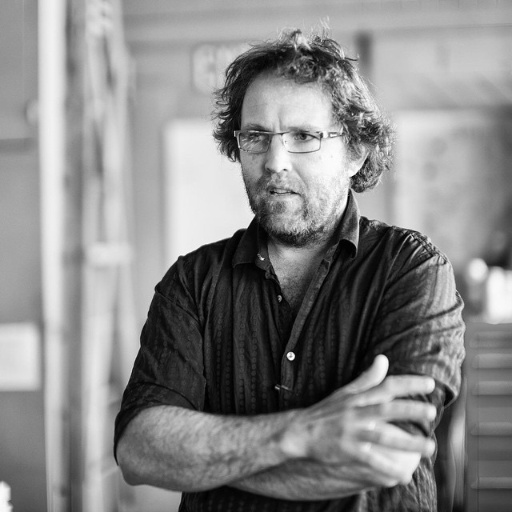hand: (259, 353, 453, 489)
